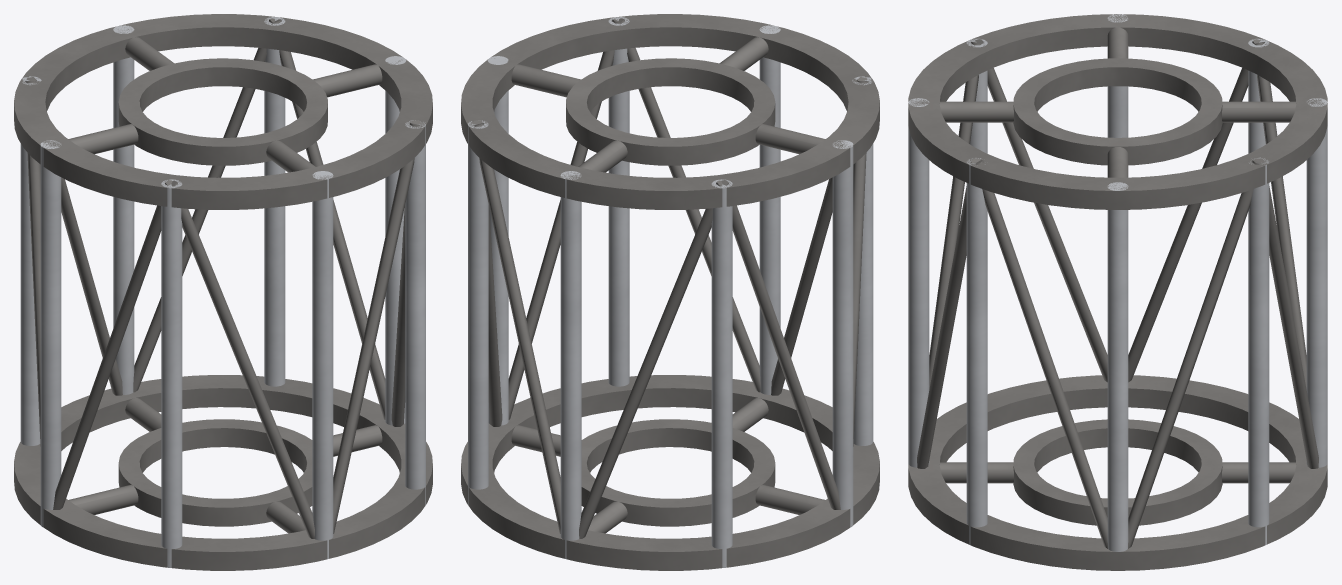
File: struct01_lattice_truss_m_250.glb
3 renders of one model, left to right at view 1: azimuth 30°, elevation 25°; view 2: azimuth 150°, elevation 25°; view 3: azimuth 270°, elevation 25°, orthographic.
Visible parts, largest first — view 1: ring_frames, longerons, end_plates, diagonals; view 2: ring_frames, longerons, end_plates, diagonals; view 3: ring_frames, longerons, end_plates, diagonals.
Boxes of the visible parts, x1,y1,x2,y2 form: ring_frames: (14, 14, 432, 570); longerons: (20, 17, 425, 567); end_plates: (68, 37, 382, 533); diagonals: (25, 18, 421, 538); ring_frames: (461, 14, 879, 570); longerons: (468, 17, 873, 567); end_plates: (511, 37, 825, 533); diagonals: (472, 18, 868, 538); ring_frames: (908, 14, 1327, 570); longerons: (908, 14, 1327, 551); end_plates: (939, 27, 1296, 525); diagonals: (917, 39, 1318, 548).
Size of the model in its own units: 2.5 by 2.53 by 2.5.
2 materials, 2 textured.
